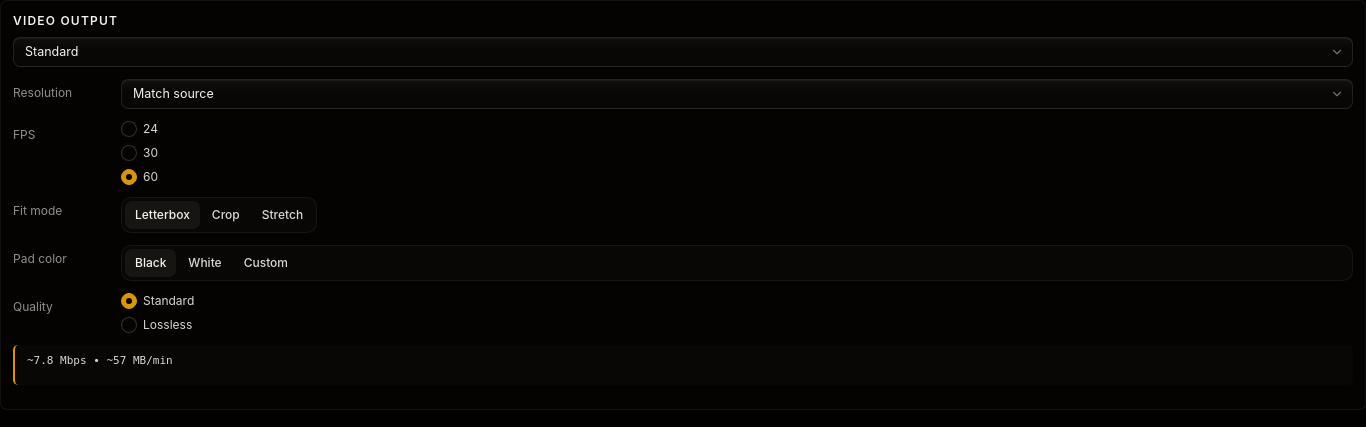
VideoOutputSection › changing FPS 60 → 30 from Standard flips activePreset to Custom
Expected: the text named "Estimated bitrate" reads "~7.8 Mbps • ~57 MB/min", [27,354,173,367]
Click the radio button named "30" next to "30": (129, 153) [121,145,137,161]
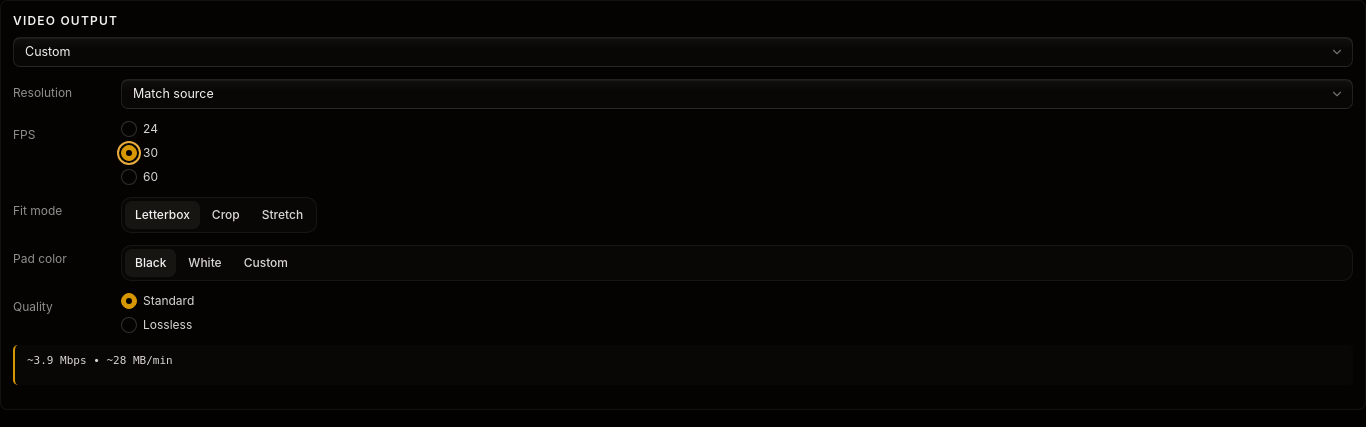
Expected: the text "Custom" is shown, [25,43,70,61]
Expected: the text named "Estimated bitrate" reads "~3.9 Mbps • ~28 MB/min", [27,354,173,367]
